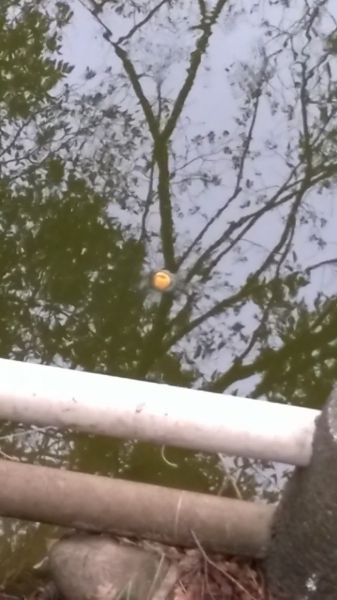eggs: (149, 270, 173, 289)
